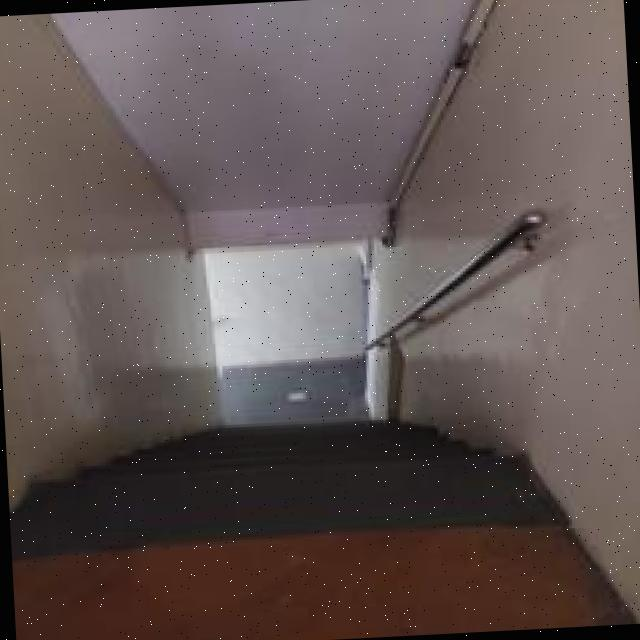stairs: (0, 261, 623, 596)
